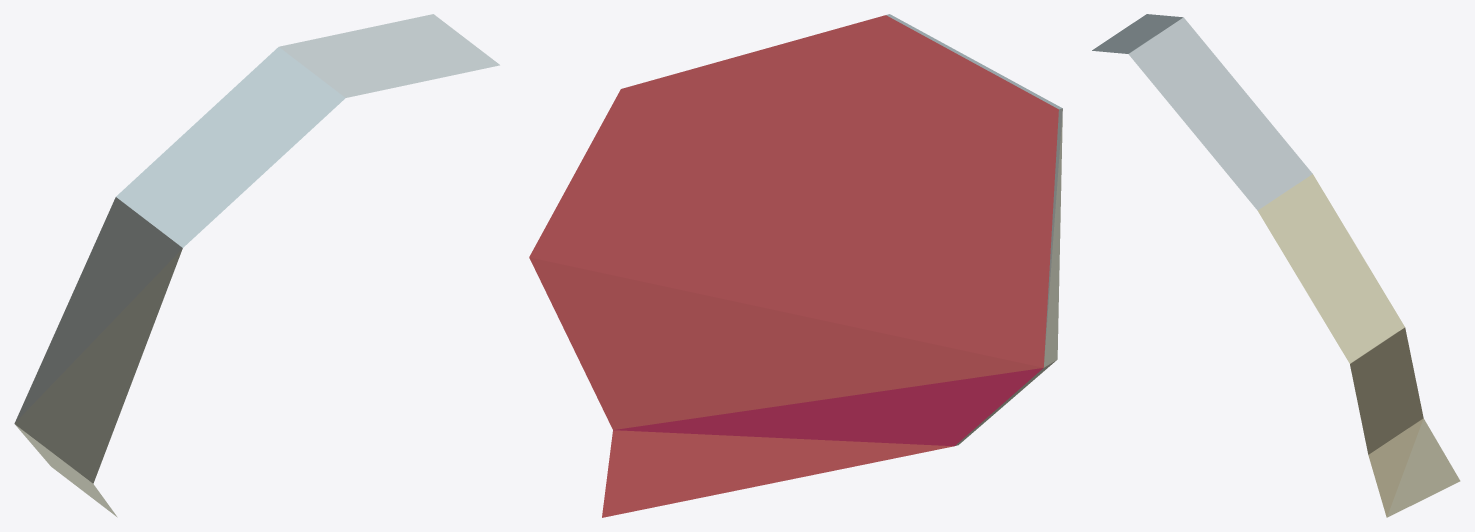
3 renders of one model, left to right at view 1: azimuth 30°, elevation 25°; view 2: azimuth 150°, elevation 25°; view 3: azimuth 270°, elevation 25°, orthographic. The views are drawn at different scales.
Visible parts, largest first — view 1: geometry_0; view 2: geometry_0; view 3: geometry_0.
Boxes of the visible parts, left/top/right/bottom form: geometry_0: left=14, top=14, right=499, bottom=517; geometry_0: left=529, top=14, right=1062, bottom=517; geometry_0: left=1092, top=14, right=1460, bottom=517.
Size of the model in its own units: 13.25 by 12.75 by 10.
